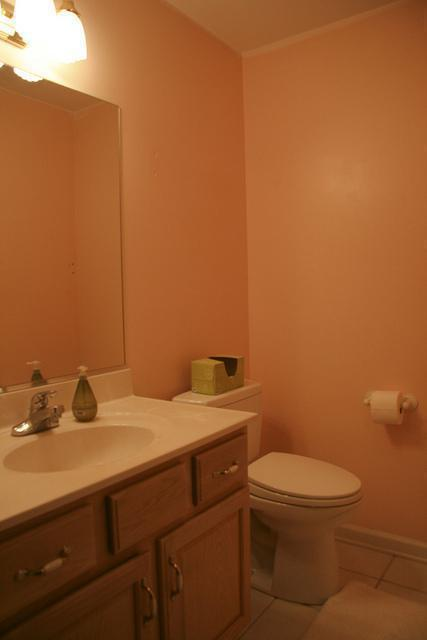Lavamanos: (0, 383, 158, 480)
